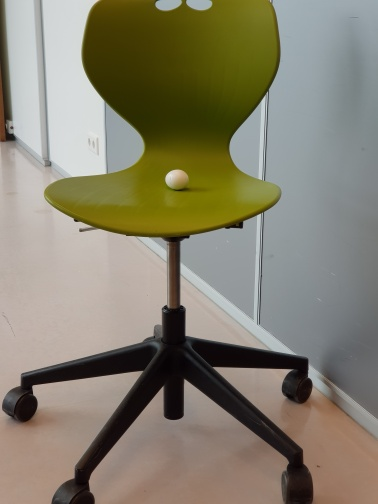egg: (162, 168, 192, 190)
